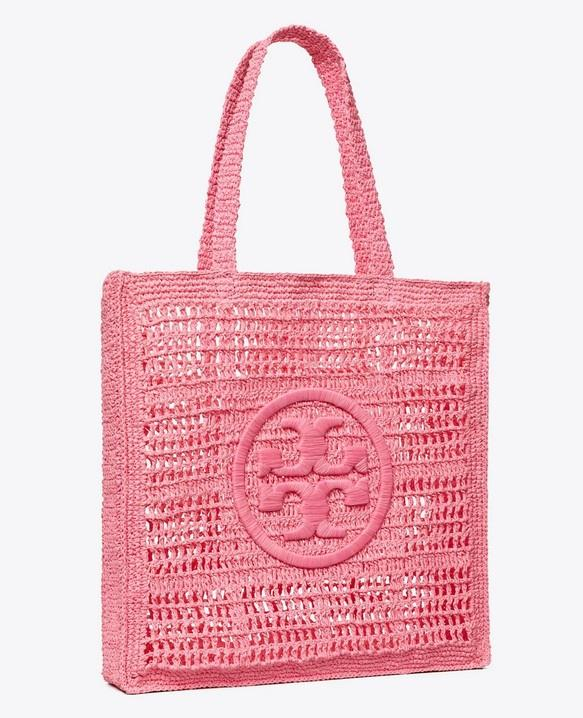TORY-BURCH: (232, 388, 394, 569)
